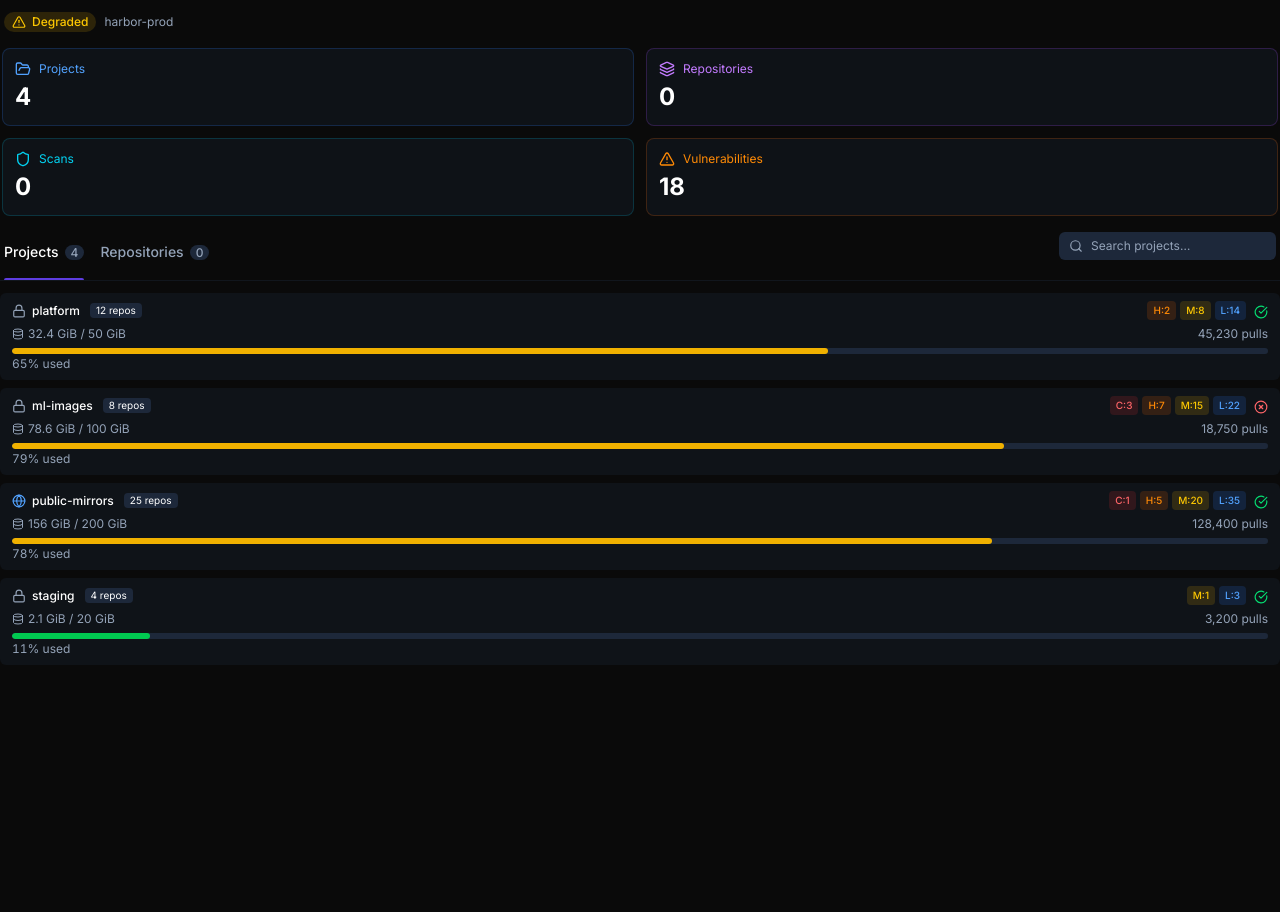
HarborStatus › shows empty repositories message when no repos exist
Click the button "Repositories0".
click(155, 256)  # box [100,232,209,280]
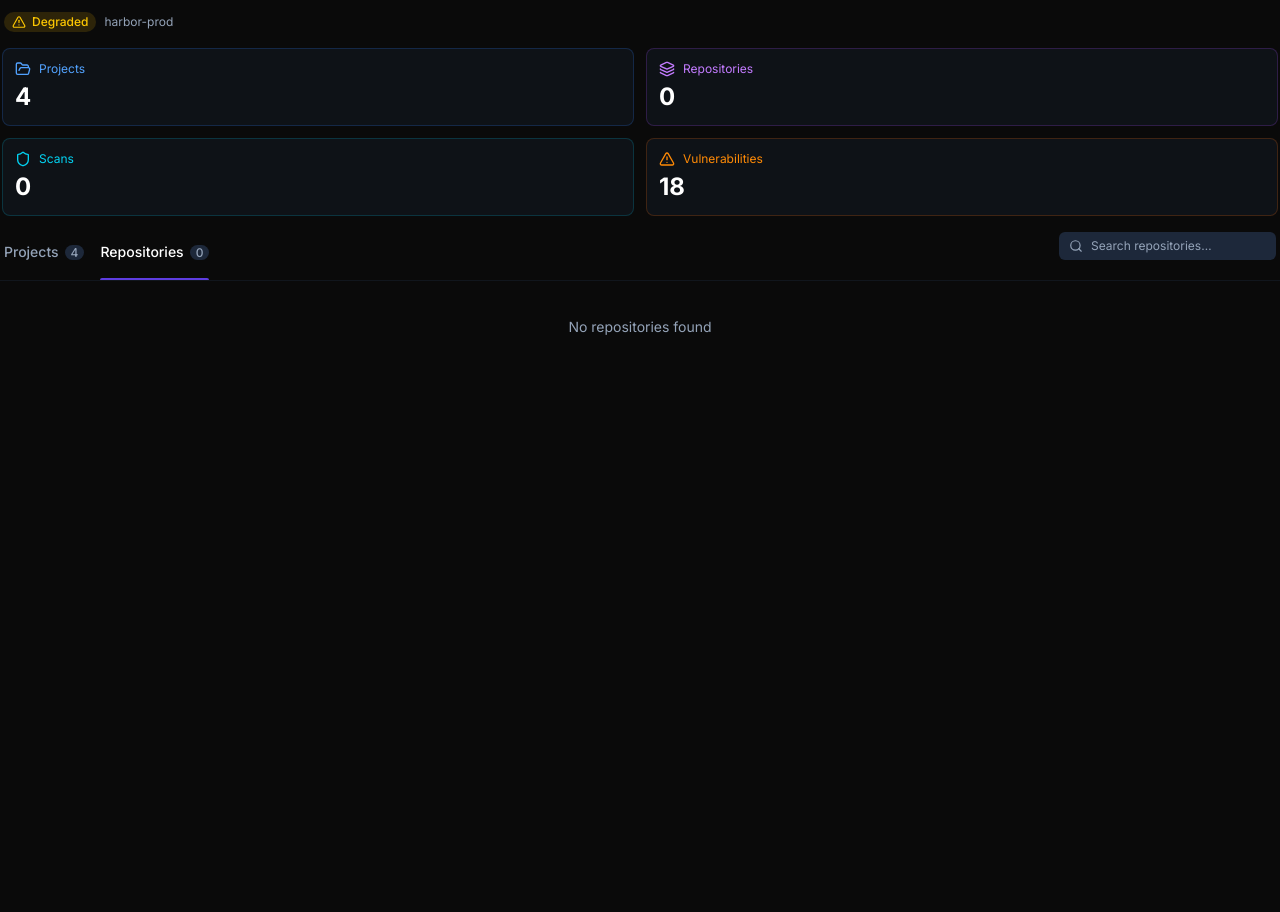
Check: the text "No repositories found" is shown, box [568,318,712,335]
